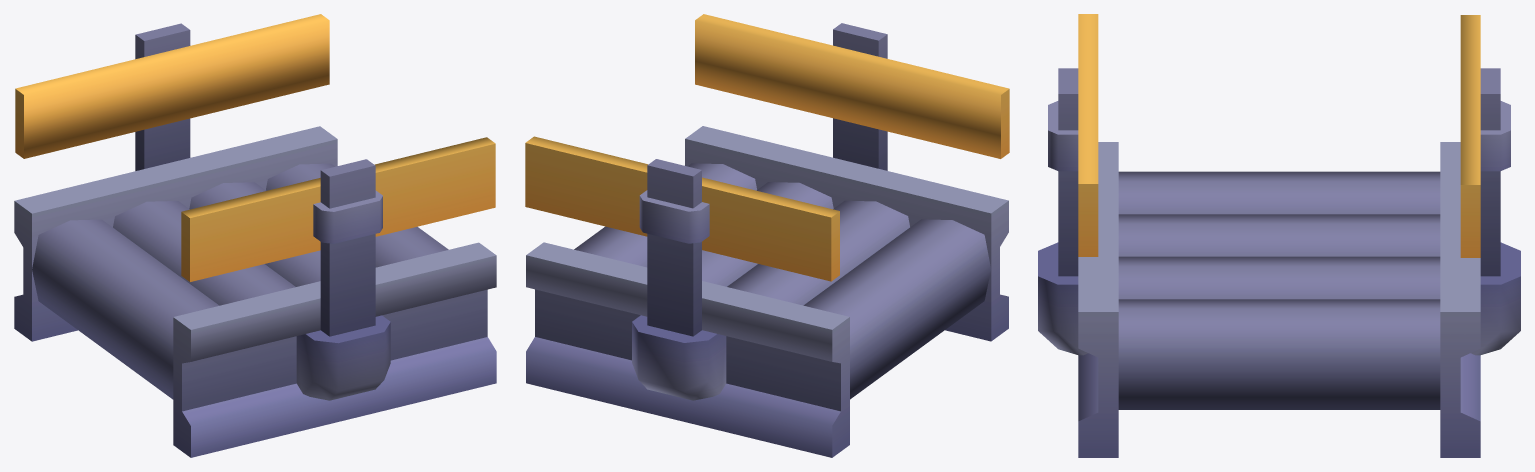
The model's file is kenney-conveyor-conveyor-bars-fence.glb.
3 views of the same model, side by side, from view 1: azimuth 30°, elevation 25°; view 2: azimuth 150°, elevation 25°; view 3: azimuth 270°, elevation 25° (orthographic). The views are drawn at different scales.
Parts seen in each view (by area): view 1: conveyor-bars-fence; view 2: conveyor-bars-fence; view 3: conveyor-bars-fence.
Part boxes in pixels (bbox=[...]): conveyor-bars-fence: bbox=[14, 14, 496, 457]; conveyor-bars-fence: bbox=[525, 14, 1009, 457]; conveyor-bars-fence: bbox=[1038, 14, 1520, 457].
Bounding box in the file's own units: 1.01 × 0.8 × 1.2.
Materials: 1 (1 with a texture image).
